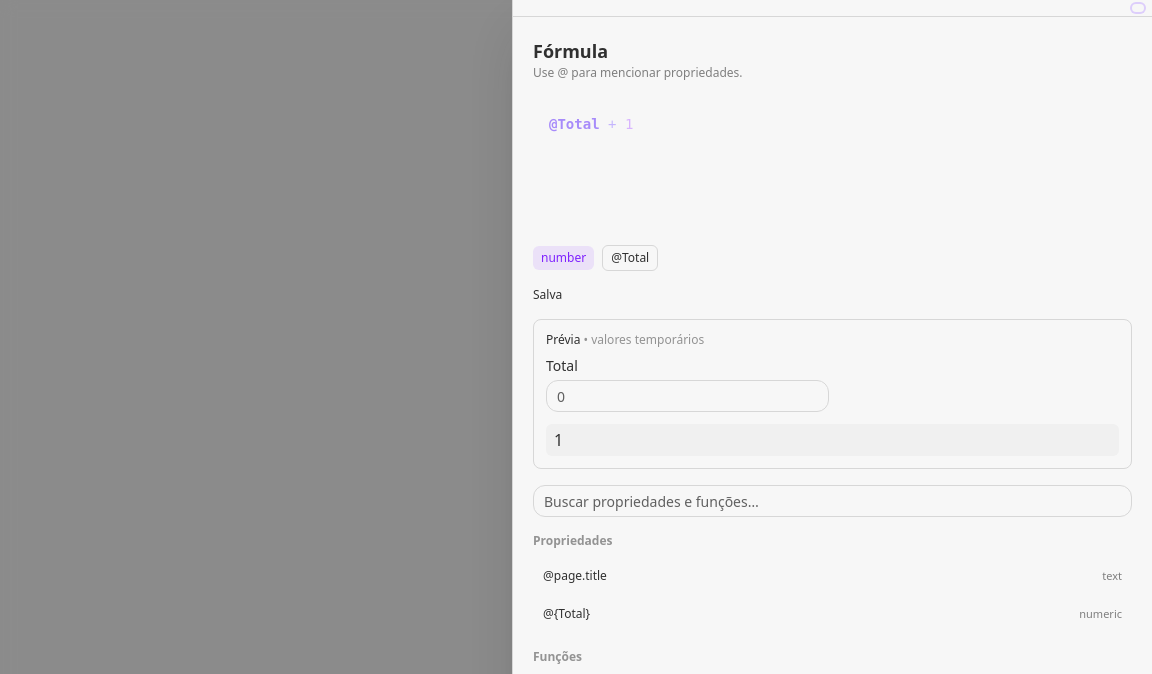
Test: Formula drawer › preview input edits affect only the preview
Type "40" into the field labelled "Total" at (687, 396), box [546, 380, 828, 412]
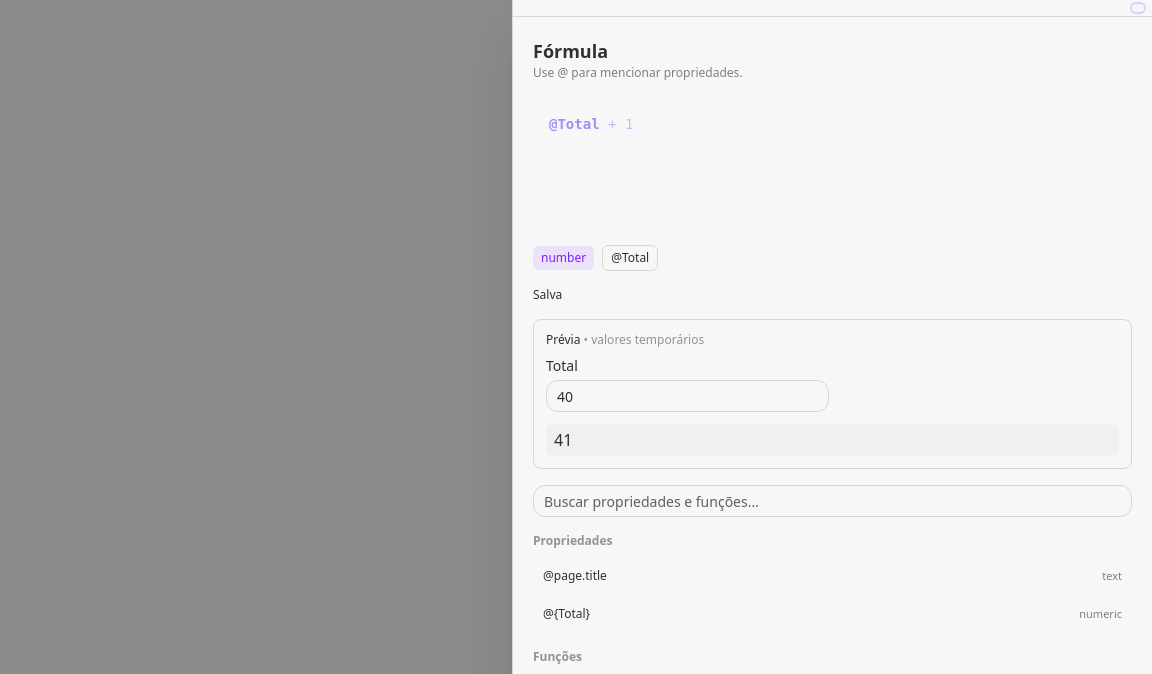
Check: the element named "Resultado da prévia" reads "41", box [554, 429, 572, 451]
